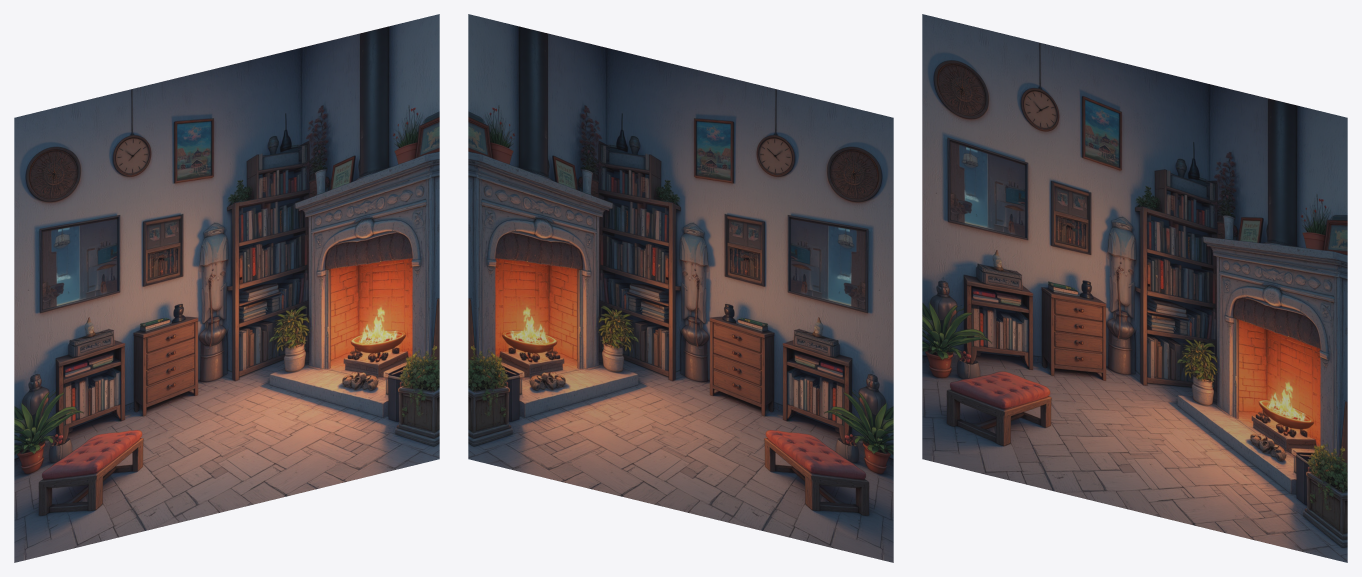
File: background.glb
The picture shows the model from 3 angles, left to right: view 1: azimuth 30°, elevation 25°; view 2: azimuth 150°, elevation 25°; view 3: azimuth 330°, elevation 25°; orthographic projection.
Visible parts, largest first — view 1: background01; view 2: background01; view 3: background01.
Part boxes in pixels (<box>): background01: <box>14,14,439,562</box>; background01: <box>468,14,893,562</box>; background01: <box>922,14,1347,562</box>.
Size of the model in its own units: 3.68 by 3.68 by 8.88e-16.
1 material, 1 textured.
